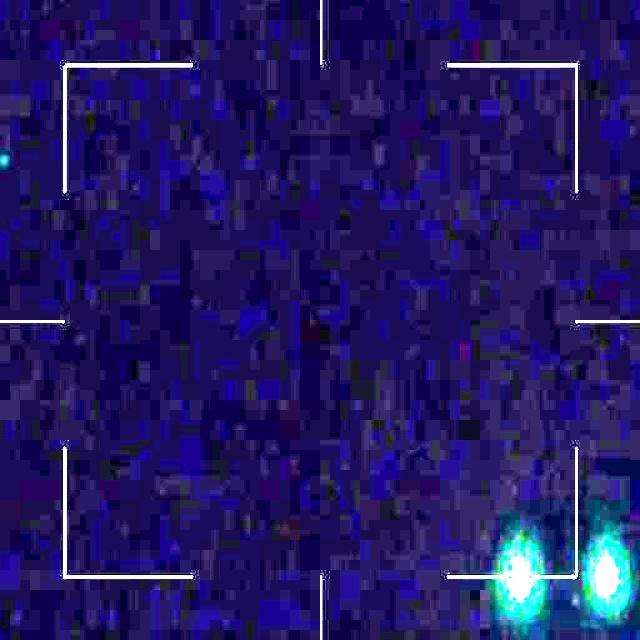bird: (501, 545, 625, 609)
